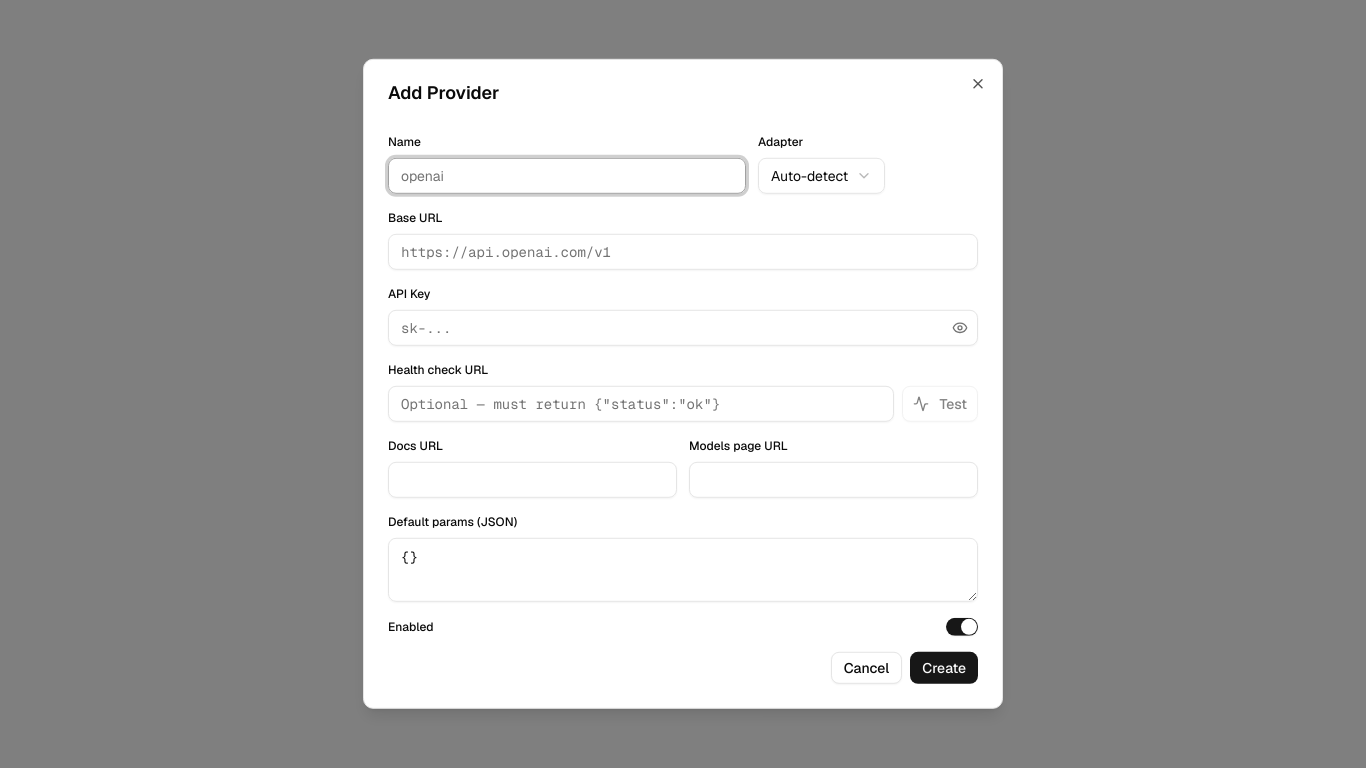
Test: ProviderFormDialog — create mode › shows API Version field when azure-openai adapter is selected
Open the adapter Select
Click the dropdown at (822, 176), box [758,158,885,194]
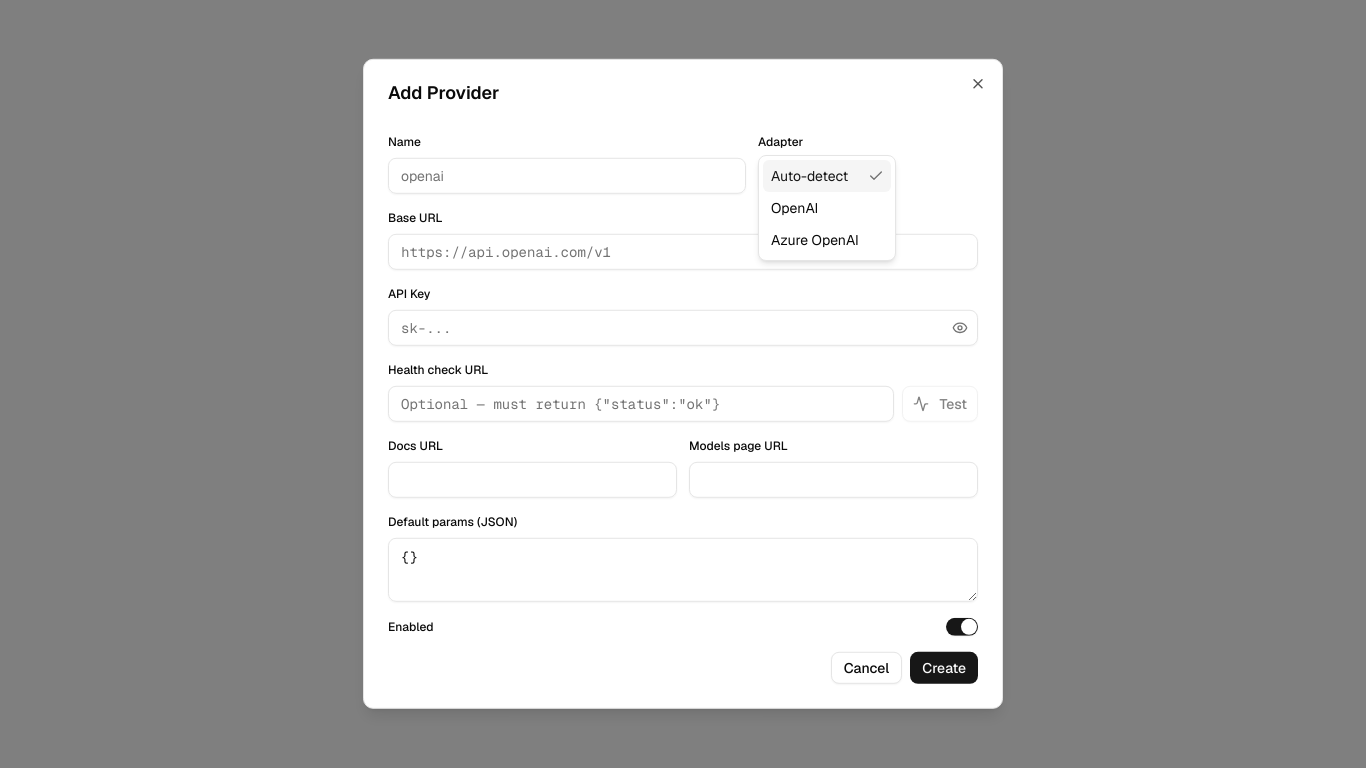
Click the option "Azure OpenAI" at (815, 240), box [771,231,859,249]
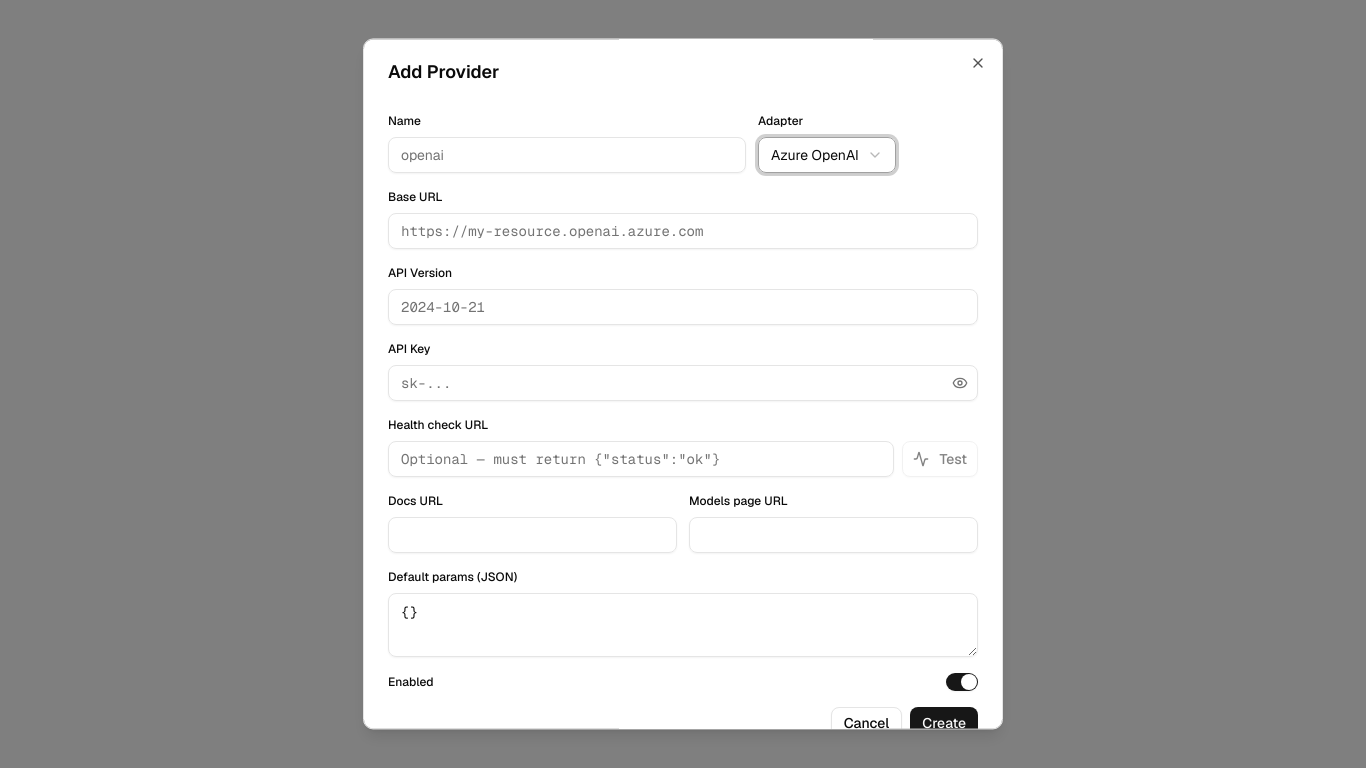
expect the field labelled "API Version" is shown: met, box [388,289,978,325]
